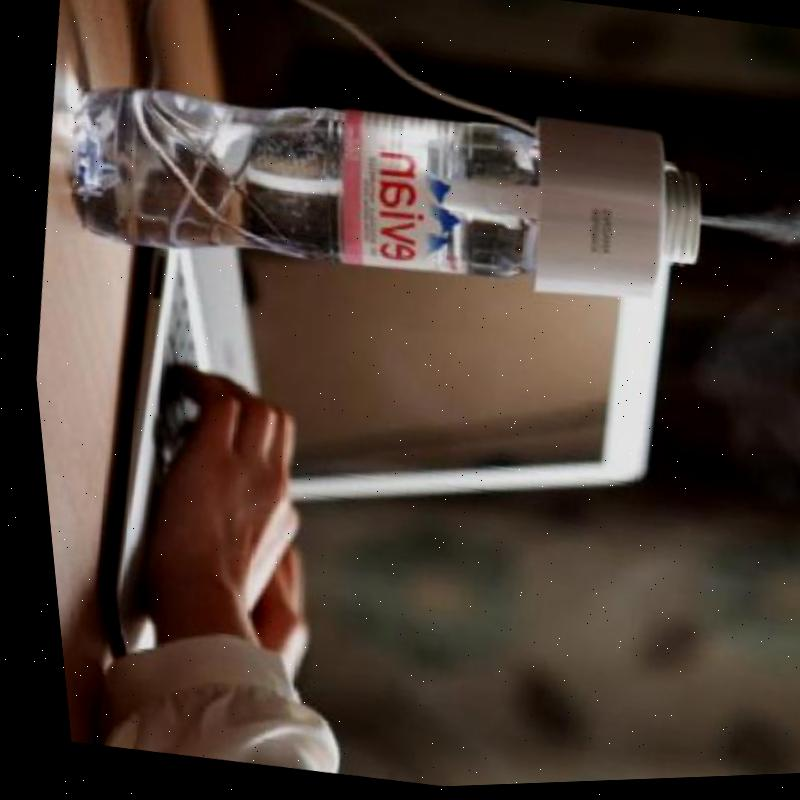botella: (49, 52, 557, 312)
